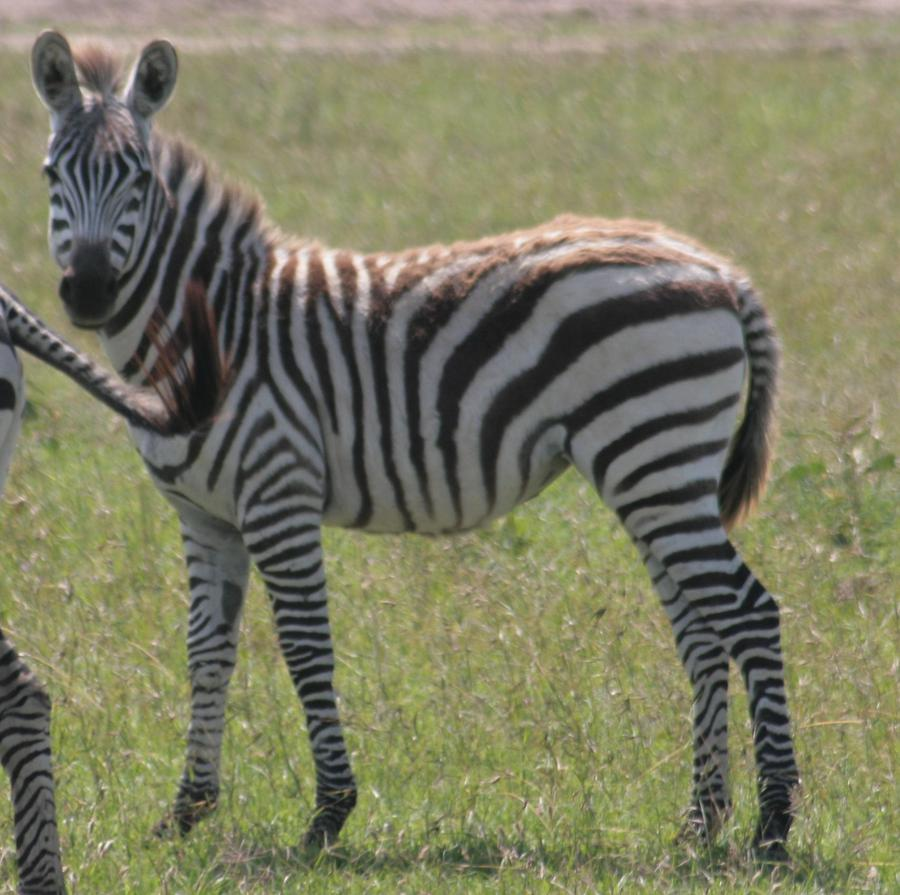zebra_plains: (158, 194, 755, 515)
